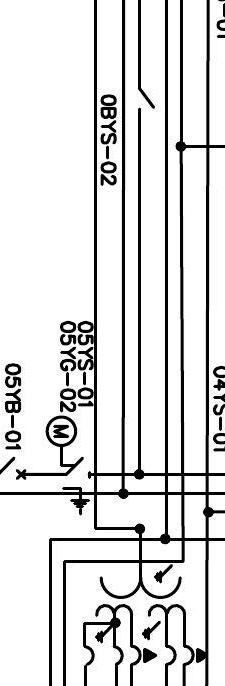115_3ways_ds_w_motor: (44, 415, 91, 516)
115_ds: (137, 86, 156, 112)
115_vt_1p: (94, 563, 208, 667)
